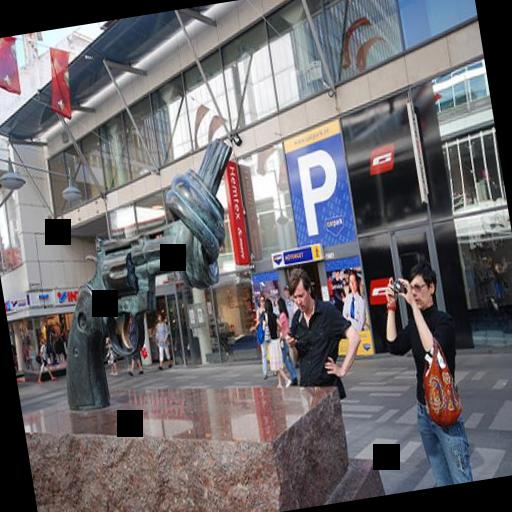Handgun: (42, 226, 197, 410)
